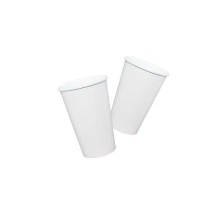paper_cup: (53, 70, 121, 162), (104, 50, 172, 139)
